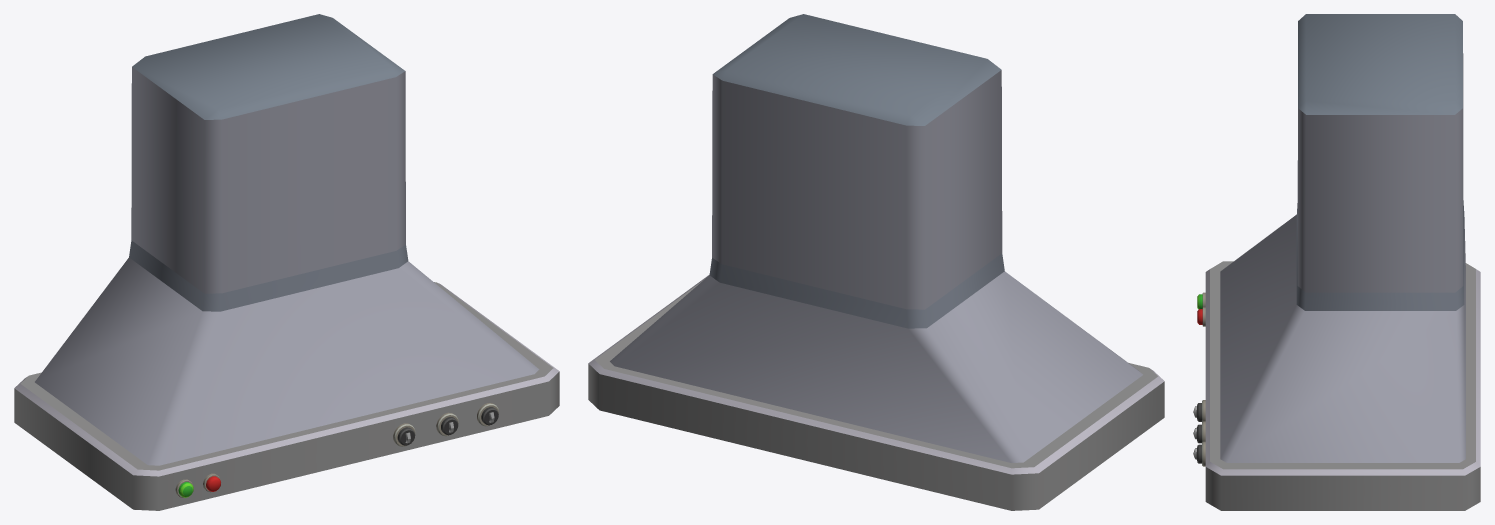
The model's file is RangeHood_B.glb.
3 views of the same model, side by side, from view 1: azimuth 30°, elevation 25°; view 2: azimuth 150°, elevation 25°; view 3: azimuth 270°, elevation 25° (orthographic). The views are drawn at different scales.
Visible parts, largest first — view 1: RangeHood_B; view 2: RangeHood_B; view 3: RangeHood_B.
Part boxes in pixels (box(x1,y1,x2,y2)): RangeHood_B: box(14, 14, 559, 510); RangeHood_B: box(588, 14, 1164, 510); RangeHood_B: box(1193, 14, 1480, 510).
Size of the model in its own units: 0.7861 by 0.5972 by 0.4476.
2 materials, 2 textured.
